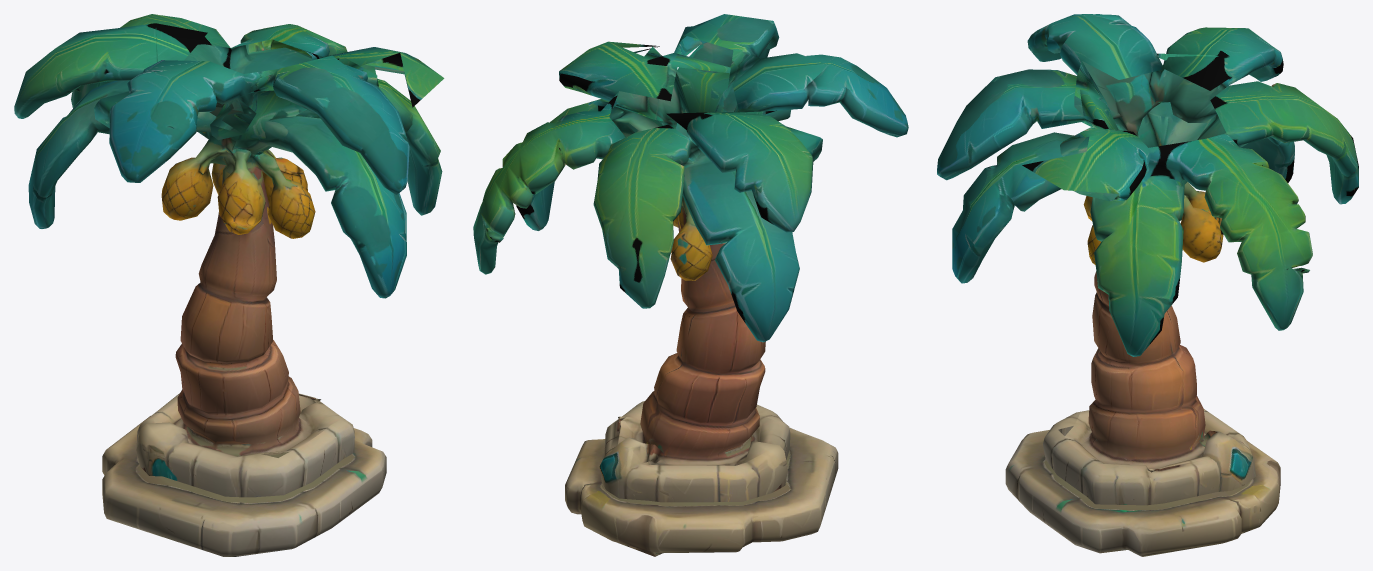
Rendered from 10-garden-palm.glb.
3 views of the same model, side by side, from view 1: azimuth 30°, elevation 25°; view 2: azimuth 150°, elevation 25°; view 3: azimuth 270°, elevation 25° (orthographic). The views are drawn at different scales.
Parts seen in each view (by area): view 1: tripo_node_93c14a1c; view 2: tripo_node_93c14a1c; view 3: tripo_node_93c14a1c.
Part boxes in pixels (x1,y1,x2,y2): tripo_node_93c14a1c: (14,14,444,556); tripo_node_93c14a1c: (473,14,908,556); tripo_node_93c14a1c: (937,14,1358,556).
Size of the model in its own units: 0.4041 by 0.498 by 0.4335.
1 material, 1 textured.
